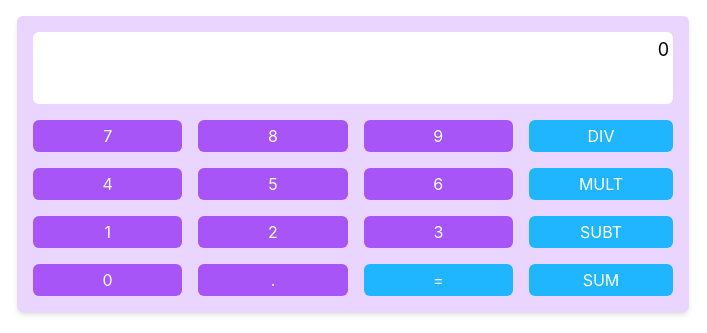
Test: Calculator › should sum some numbers
Step 1. Click the button "2" → (273, 232), box [198,216,348,248]
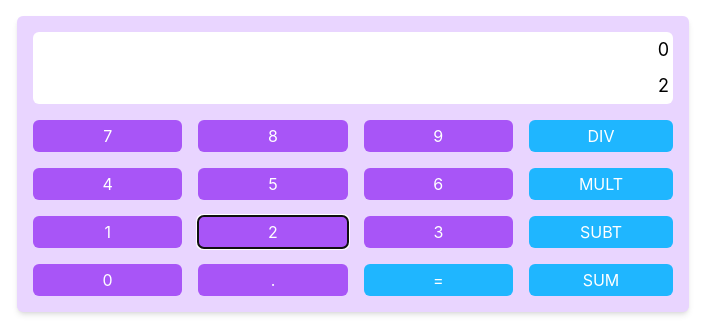
Step 2. Click the button "SUM" → (601, 280), box [529,264,673,296]
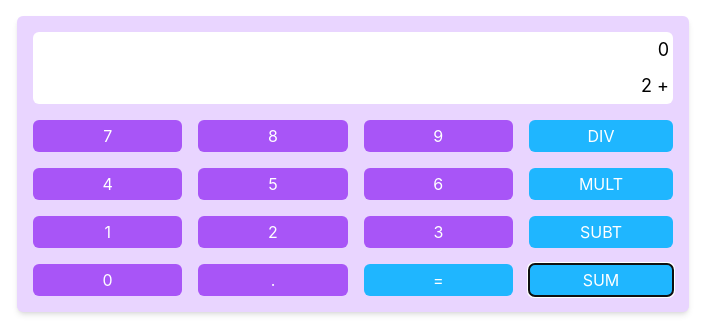
Step 3. Click the button "3" → (438, 232), box [364,216,513,248]
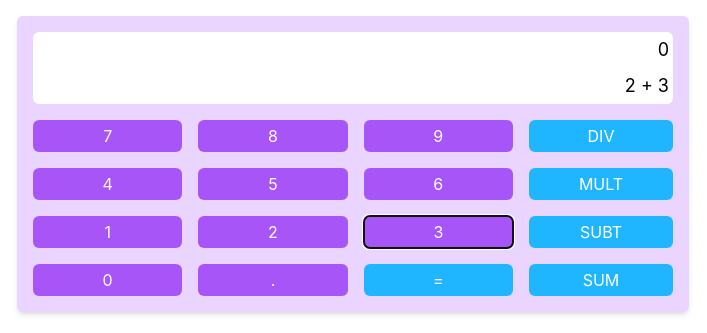
Step 4. Click the button "SUM" → (601, 280), box [529,264,673,296]
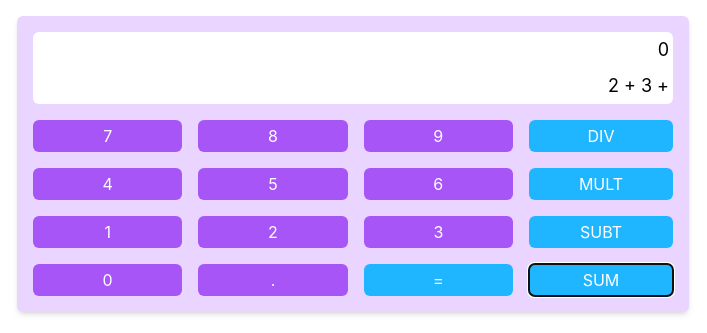
Step 5. Click the button "5" → (273, 184), box [198,168,348,200]
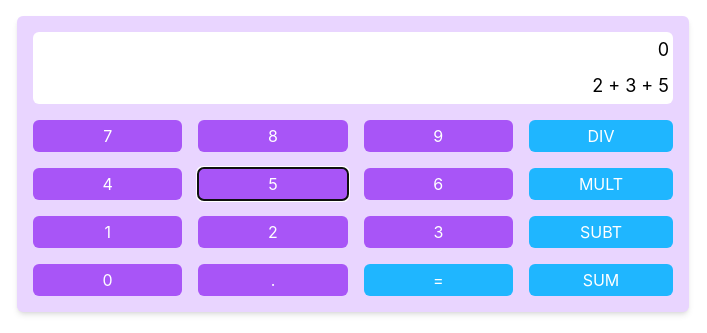
Expected: the 2nd field holds "2 + 3 + 5", [33,68,673,104]
Step 6. Click the button "=" → (438, 280), box [364,264,513,296]
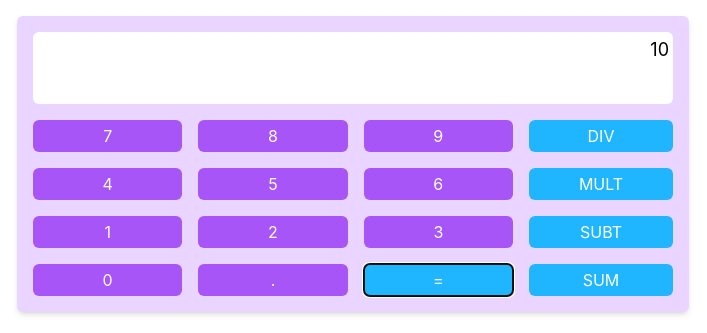
Expected: the 1st field holds "10", [33,32,673,68]
Expected: the 2nd field is empty, [33,68,673,104]
